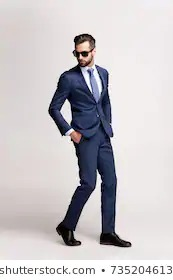F_dress pants: (61, 130, 120, 235)
